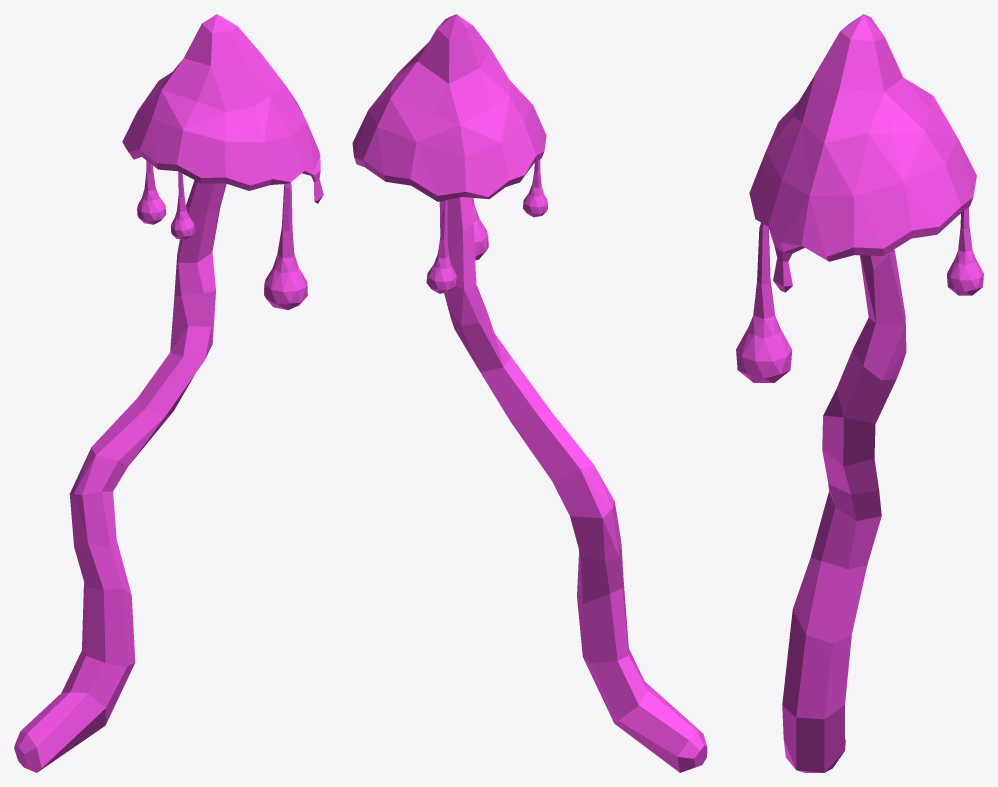
The model's file is SM_Mushroom_Drip_Big_Single_A_Fantasy.fbx.
3 views of the same model, side by side, from view 1: azimuth 30°, elevation 25°; view 2: azimuth 150°, elevation 25°; view 3: azimuth 270°, elevation 25° (orthographic). The views are drawn at different scales.
Visible parts, largest first — view 1: SM_Mushroom_Drip_Big_Single_A_Fantasy; view 2: SM_Mushroom_Drip_Big_Single_A_Fantasy; view 3: SM_Mushroom_Drip_Big_Single_A_Fantasy.
Part boxes in pixels (left/top/right/bottom): SM_Mushroom_Drip_Big_Single_A_Fantasy: left=14, top=14, right=323, bottom=772; SM_Mushroom_Drip_Big_Single_A_Fantasy: left=352, top=14, right=707, bottom=772; SM_Mushroom_Drip_Big_Single_A_Fantasy: left=736, top=14, right=983, bottom=772.
Size of the model in its own units: 2.21 by 4.73 by 1.2.
